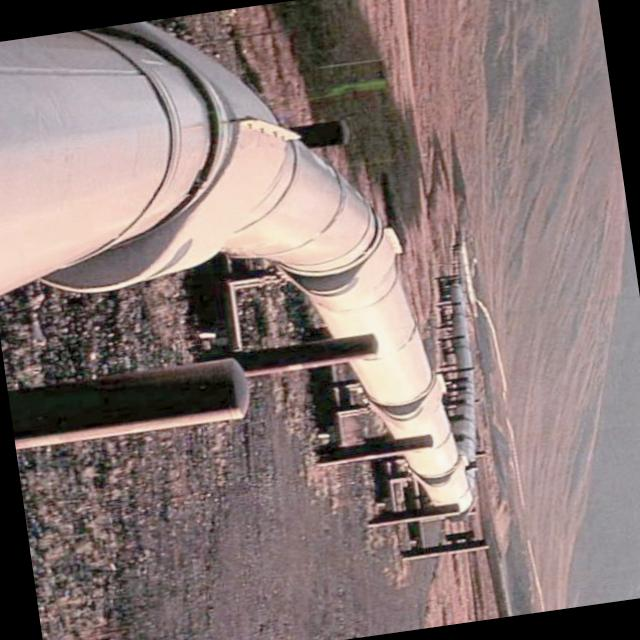gas: (0, 29, 475, 515)
